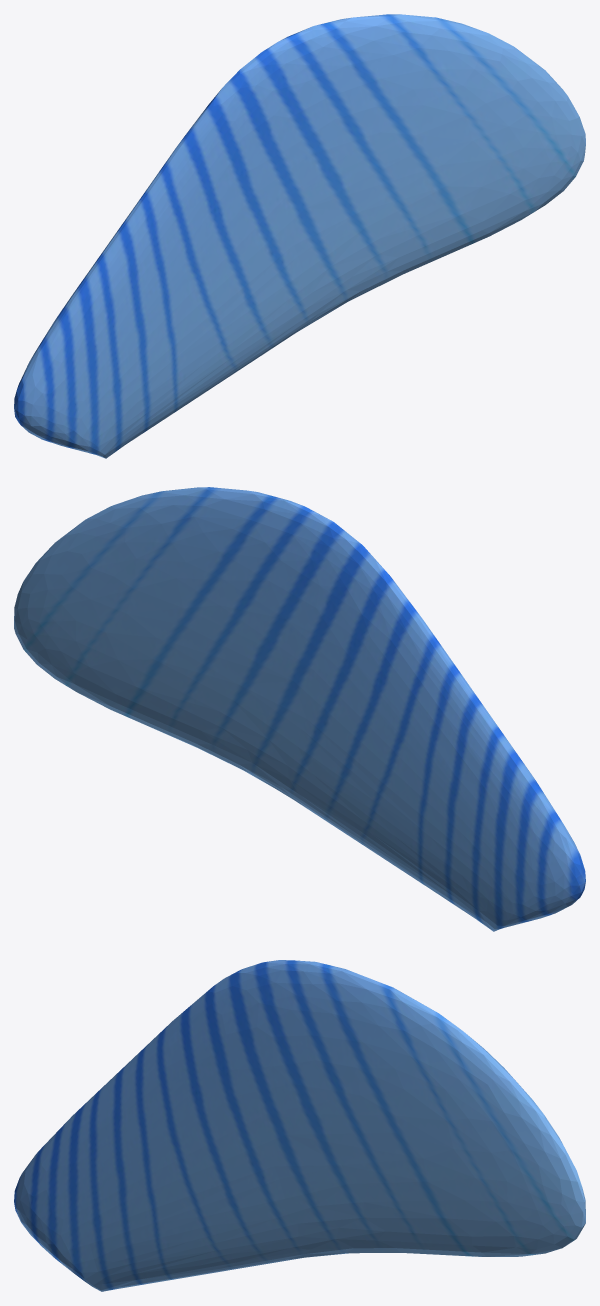
File: Fish5_Fin1_new11.dae
3 renders of one model, top to bottom at view 1: azimuth 30°, elevation 25°; view 2: azimuth 150°, elevation 25°; view 3: azimuth 330°, elevation 25°, orthographic.
Visible parts, largest first — view 1: Cube_002; view 2: Cube_002; view 3: Cube_002.
Part boxes in pixels (bbox=[...]): Cube_002: bbox=[14, 14, 585, 458]; Cube_002: bbox=[14, 487, 585, 931]; Cube_002: bbox=[14, 960, 585, 1291].
Bounding box in the file's own units: 2.74 × 0.1706 × 1.74.
1 material, 1 textured.
